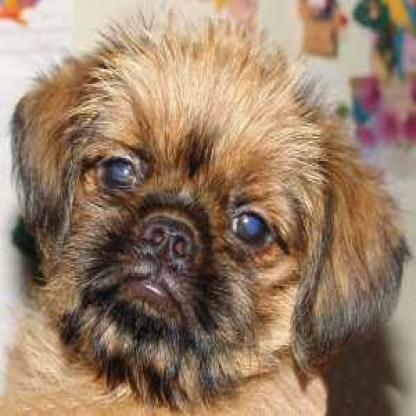Brabancon_griffon: (0, 7, 408, 413)
